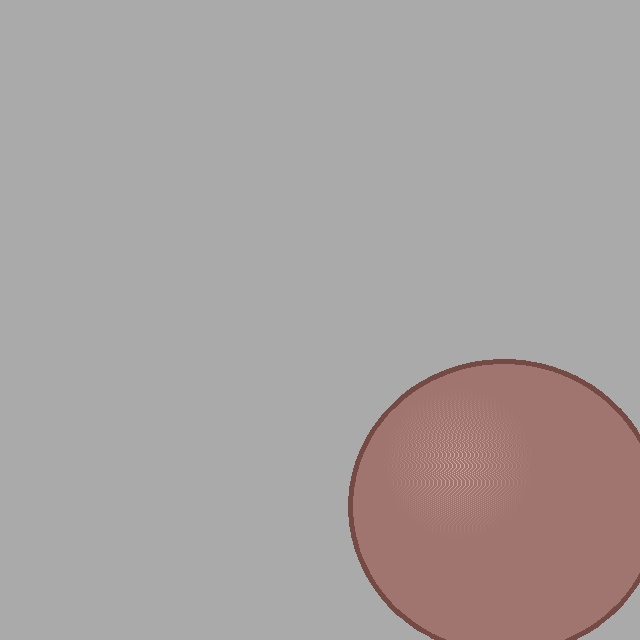lens: (350, 361, 640, 640)
